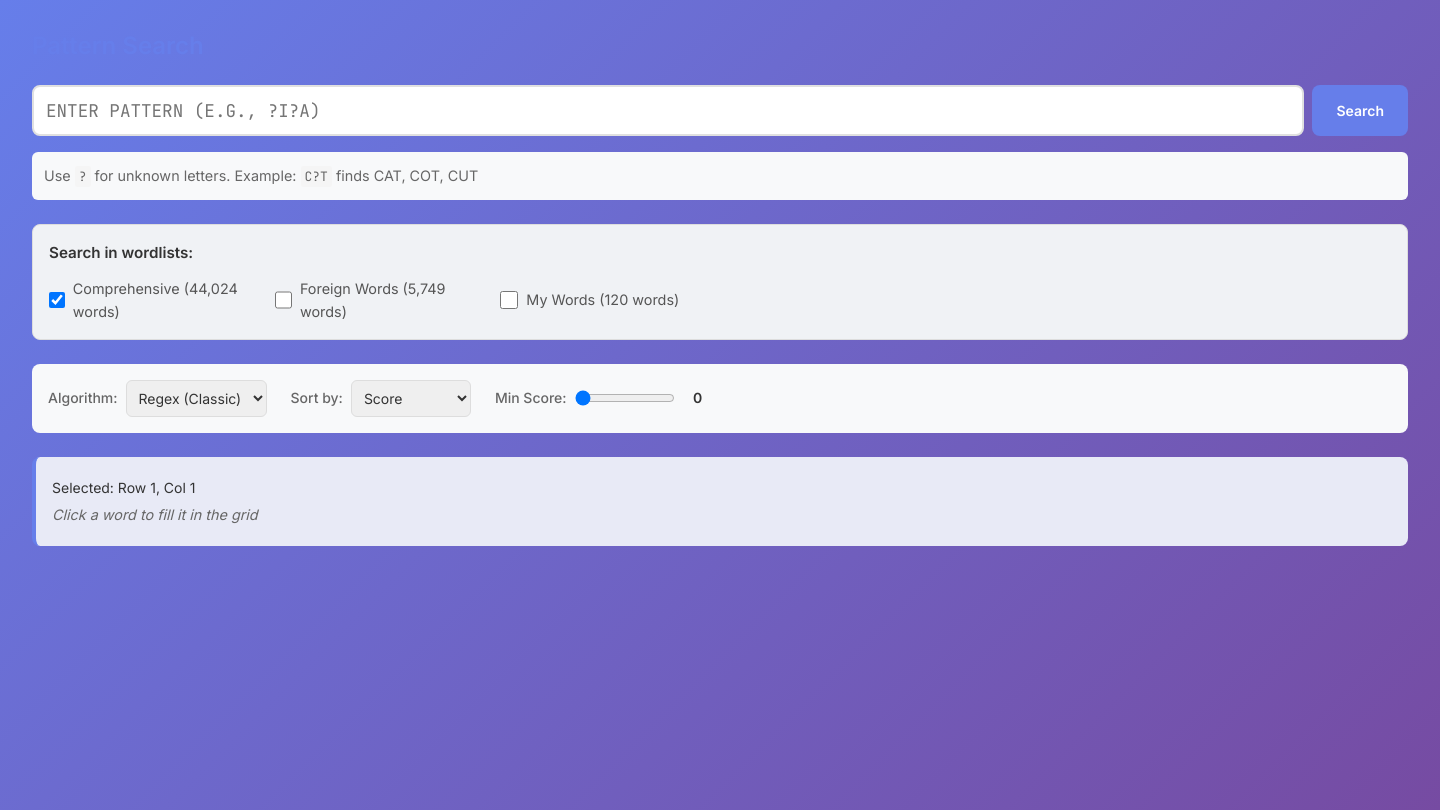
Test: PatternMatcher Component › Loading States › disables search button during search
In the field with placeholder "Enter pattern (e.g., ?I?A)": (668, 110) [32,85,1304,136], type "C?T"
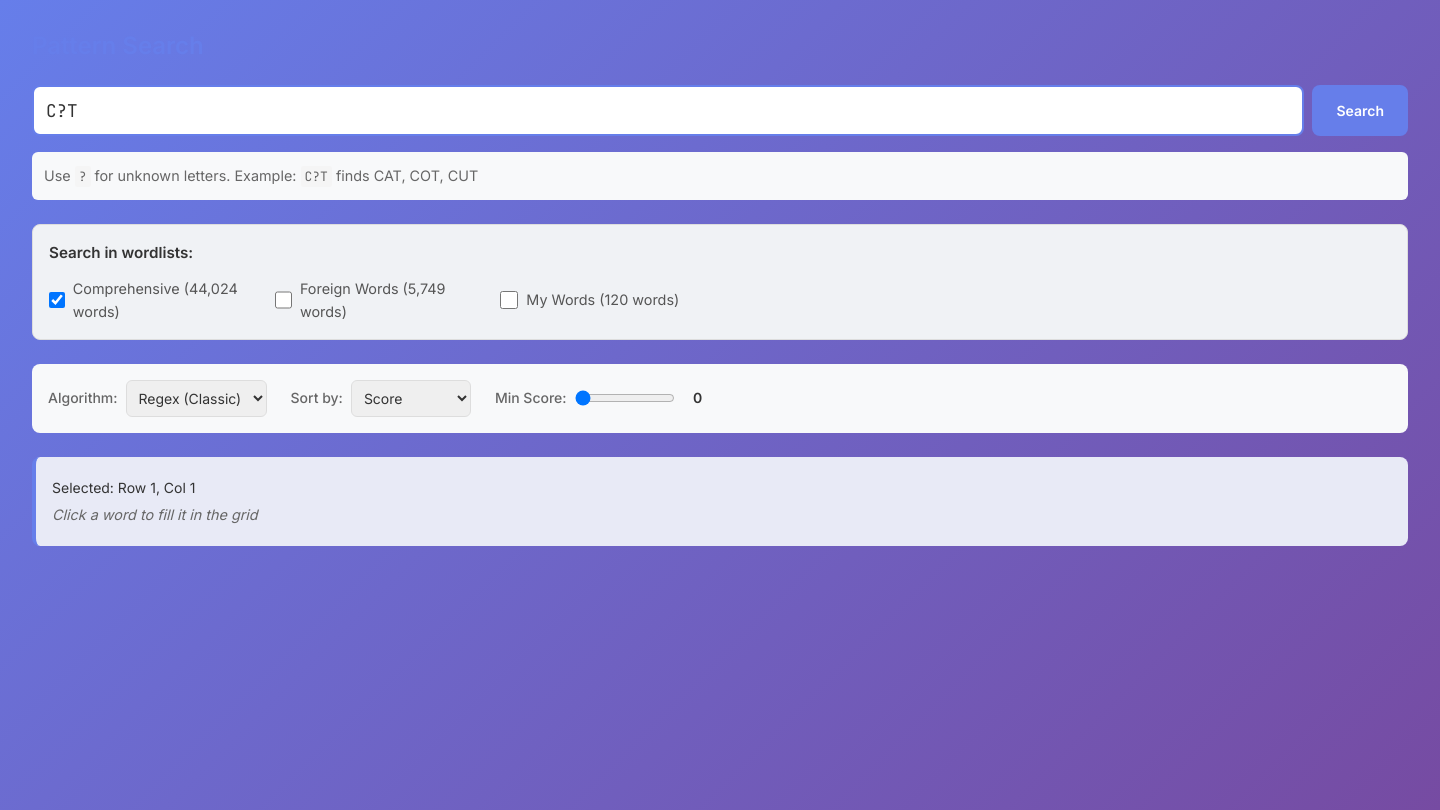
Click the button "Search": (1360, 110) [1312,85,1408,136]
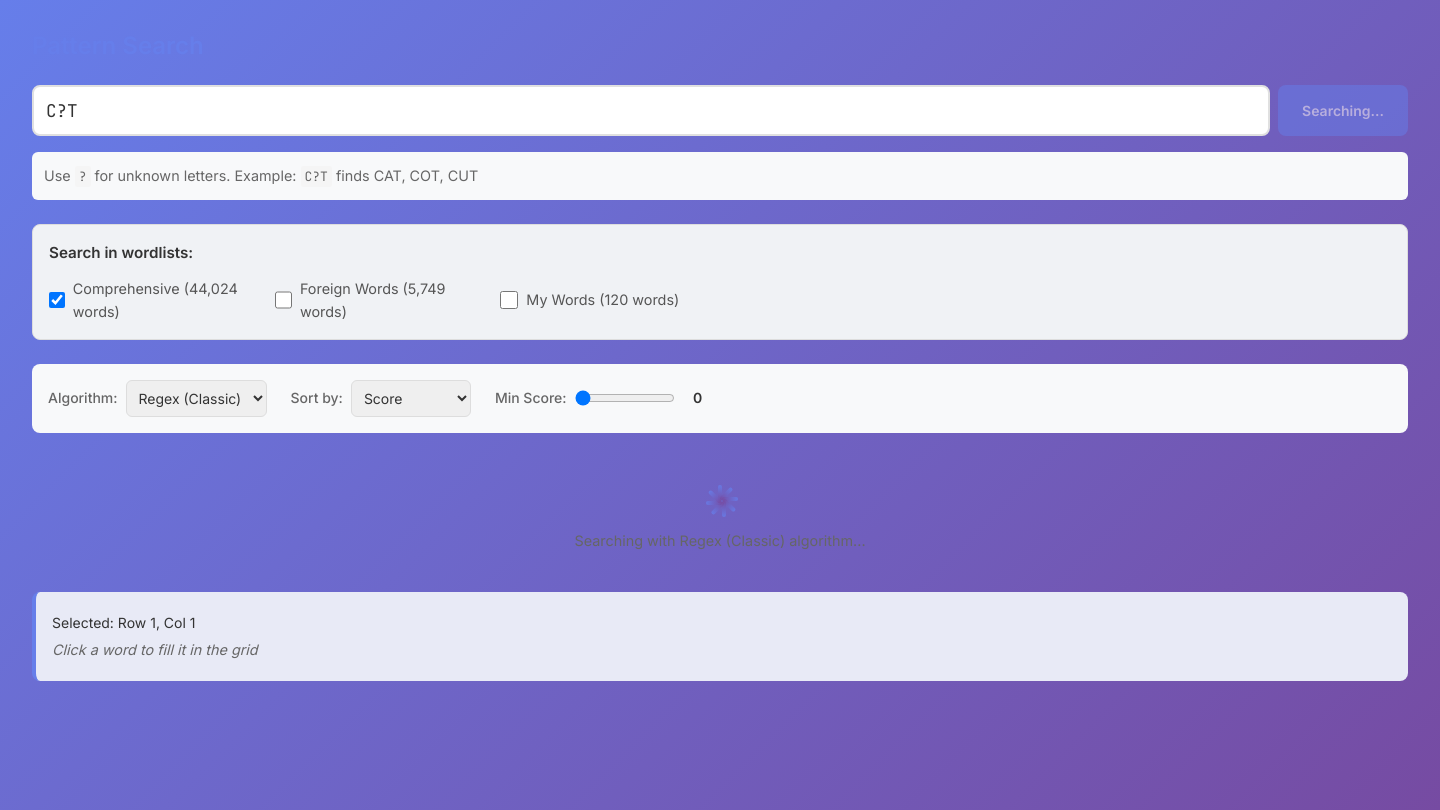
Check: the button "Searching..." is disabled, box [1278,85,1408,136]
